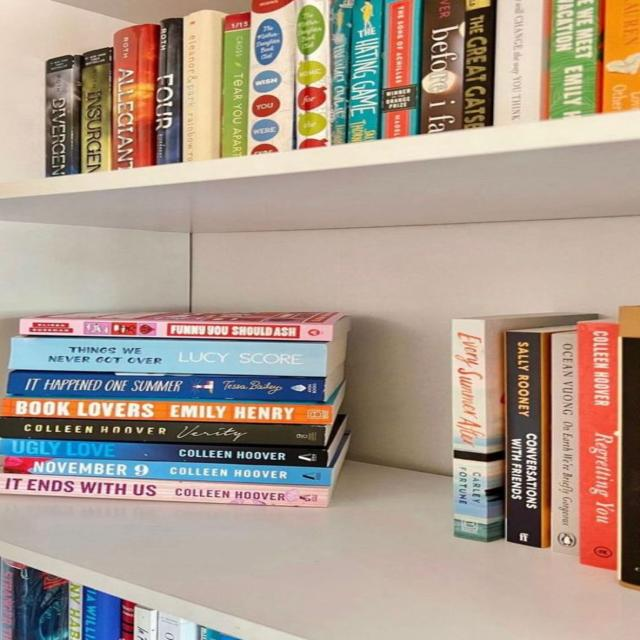book: (10, 337, 344, 377), (1, 473, 329, 508), (0, 415, 346, 448), (7, 370, 341, 404), (453, 319, 502, 539), (0, 456, 331, 486), (578, 322, 616, 570), (504, 332, 547, 546), (0, 439, 326, 467), (0, 398, 337, 425), (245, 0, 295, 155), (111, 23, 159, 170), (493, 0, 548, 125), (551, 334, 582, 555), (18, 319, 331, 340), (183, 10, 226, 162), (548, 0, 598, 119), (420, 0, 464, 133), (381, 0, 422, 138), (347, 0, 383, 142), (296, 0, 330, 149), (622, 306, 640, 584), (45, 55, 82, 177), (600, 0, 639, 113), (463, 0, 496, 128), (156, 18, 183, 164), (221, 13, 248, 157), (80, 48, 111, 173)
